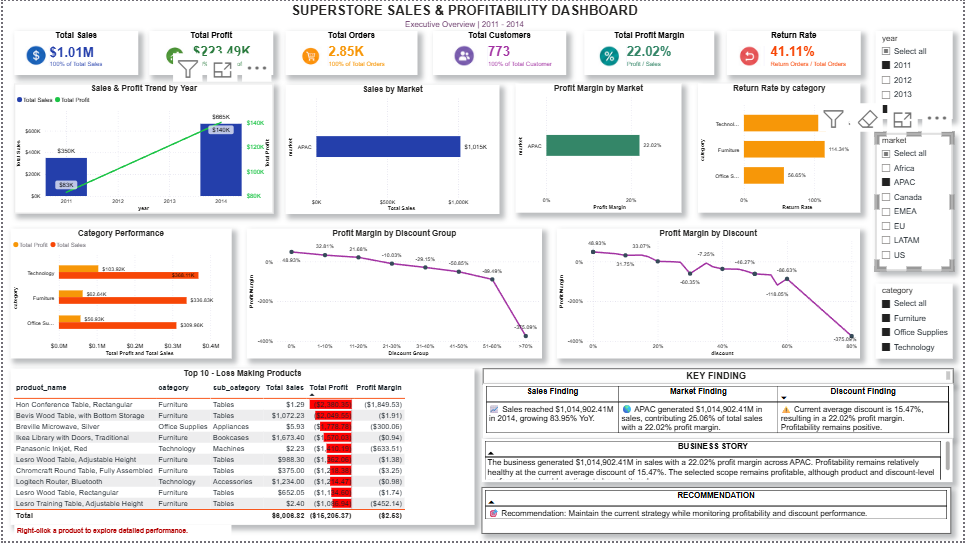

The page's visual inventory and layout, read from the dashboard file:
{"tool":"powerbi","page":{"name":"FIX Executive Overview","canvas":[1920,1080],"ordinal":0},"visuals":[{"type":"textbox","box":[0,0,1846,40],"z":0},{"type":"textbox","box":[0,32,1846,28],"z":1000},{"type":"cardVisual","title":"Total Sales","fields":{"Data":["DimOrder.Total Sales"]},"box":[22,60,248,88],"z":2000},{"type":"cardVisual","title":"Total Profit","fields":{"Data":["DimOrder.Total Profit"]},"box":[292,60,248,88],"z":3000},{"type":"cardVisual","title":"Total Orders","fields":{"Data":["DimOrder.Total Orders"]},"box":[566,60,264,88],"z":4000},{"type":"cardVisual","title":"Total Customers","fields":{"Data":["DimOrder.Total Customers"]},"box":[860,60,266,88],"z":5000},{"type":"cardVisual","title":"Total Profit Margin","fields":{"Data":["DimOrder.Profit Margin"]},"box":[1162,60,260,88],"z":6000},{"type":"cardVisual","title":"Return Rate","fields":{"Data":["DimOrder.Return Rate"]},"box":[1448,60,268,88],"z":7000},{"type":"lineClusteredColumnComboChart","title":"Sales & Profit Trend by Year","fields":{"Category":["public orders.year"],"Y":["DimOrder.Total Sales"],"Y2":["DimOrder.Total Profit"]},"box":[22,166,518,260],"z":8000},{"type":"clusteredBarChart","title":"Sales by Market","fields":{"Y":["DimOrder.Total Sales"],"Category":["public orders.market"]},"box":[566,168,428,258],"z":9000},{"type":"clusteredBarChart","title":"Profit Margin by Market","fields":{"Y":["DimOrder.Profit Margin"],"Category":["public orders.market"]},"box":[1024,166,331.7,258.3],"z":10000},{"type":"clusteredBarChart","title":"Category Performance","fields":{"Y":["DimOrder.Total Profit","DimOrder.Total Sales"],"Category":["public orders.category"]},"box":[14,454,442,260],"z":11000},{"type":"lineChart","title":"Profit Margin by Discount","fields":{"Y":["DimOrder.Profit Margin"],"Category":["public orders.discount"]},"box":[1108,454,606,260],"z":12000},{"type":"clusteredBarChart","fields":{"Y":["DimOrder.Return Rate"],"Category":["public orders.category"]},"box":[1390,166,325,258.3],"z":13000},{"type":"tableEx","title":"Top 10 - Loss Making Products","fields":{"Values":["public orders.product_name","public orders.category","public orders.sub_category","DimOrder.Total Sales","DimOrder.Total Profit","DimOrder.Profit Margin"]},"box":[14.4,734.8,928.3,312.9],"z":14000},{"type":"lineChart","title":"Profit Margin by Discount Group","fields":{"Y":["DimOrder.Profit Margin"],"Category":["public orders.Discount Group"]},"box":[488,454,590,260],"z":15000},{"type":"slicer","fields":{"Values":["public orders.year"]},"box":[1744,60,154,176],"z":16000},{"type":"slicer","fields":{"Values":["public orders.market"]},"box":[1746,266,154,274],"z":17000},{"type":"slicer","fields":{"Values":["public orders.category"]},"box":[1744,564,154,150],"z":18000},{"type":"textbox","box":[22,1048,434,32],"z":19000},{"type":"textbox","box":[959.2,734.8,940.7,30.9],"z":20000},{"type":"tableEx","fields":{"Values":["DimOrder.Dynamic Sales Finding","DimOrder.Dynamic Market Finding","DimOrder.Dynamic Discount Finding"]},"box":[959.2,765.7,940.7,109.1],"z":21000},{"type":"tableEx","fields":{"Values":["DimOrder.Business Story"]},"box":[958.6,874.3,941.4,87.1],"z":22000},{"type":"tableEx","fields":{"Values":["DimOrder.Recommendation"]},"box":[958.6,971.4,938.6,92.9],"z":23000}]}

Visuals, with their boxes in screenshot pixels (x1, y1, x2, y2), scaled from the page's 1920x1080 canvas onto the 965x546 screenshot:
textbox: [0,0,928,20]
textbox: [0,16,928,30]
"Total Sales" cardVisual: [11,30,136,75]
"Total Profit" cardVisual: [147,30,271,75]
"Total Orders" cardVisual: [284,30,417,75]
"Total Customers" cardVisual: [432,30,566,75]
"Total Profit Margin" cardVisual: [584,30,715,75]
"Return Rate" cardVisual: [728,30,862,75]
"Sales & Profit Trend by Year" lineClusteredColumnComboChart: [11,84,271,215]
"Sales by Market" clusteredBarChart: [284,85,500,215]
"Profit Margin by Market" clusteredBarChart: [515,84,681,215]
"Category Performance" clusteredBarChart: [7,230,229,361]
"Profit Margin by Discount" lineChart: [557,230,861,361]
clusteredBarChart - DimOrder.Return Rate x public orders.category: [699,84,862,215]
"Top 10 - Loss Making Products" tableEx: [7,371,474,530]
"Profit Margin by Discount Group" lineChart: [245,230,542,361]
slicer - public orders.year: [877,30,954,119]
slicer - public orders.market: [878,134,955,273]
slicer - public orders.category: [877,285,954,361]
textbox: [11,530,229,545]
textbox: [482,371,955,387]
tableEx - DimOrder.Dynamic Sales Finding x DimOrder.Dynamic Market Finding: [482,387,955,442]
tableEx - DimOrder.Business Story: [482,442,955,486]
tableEx - DimOrder.Recommendation: [482,491,954,538]
